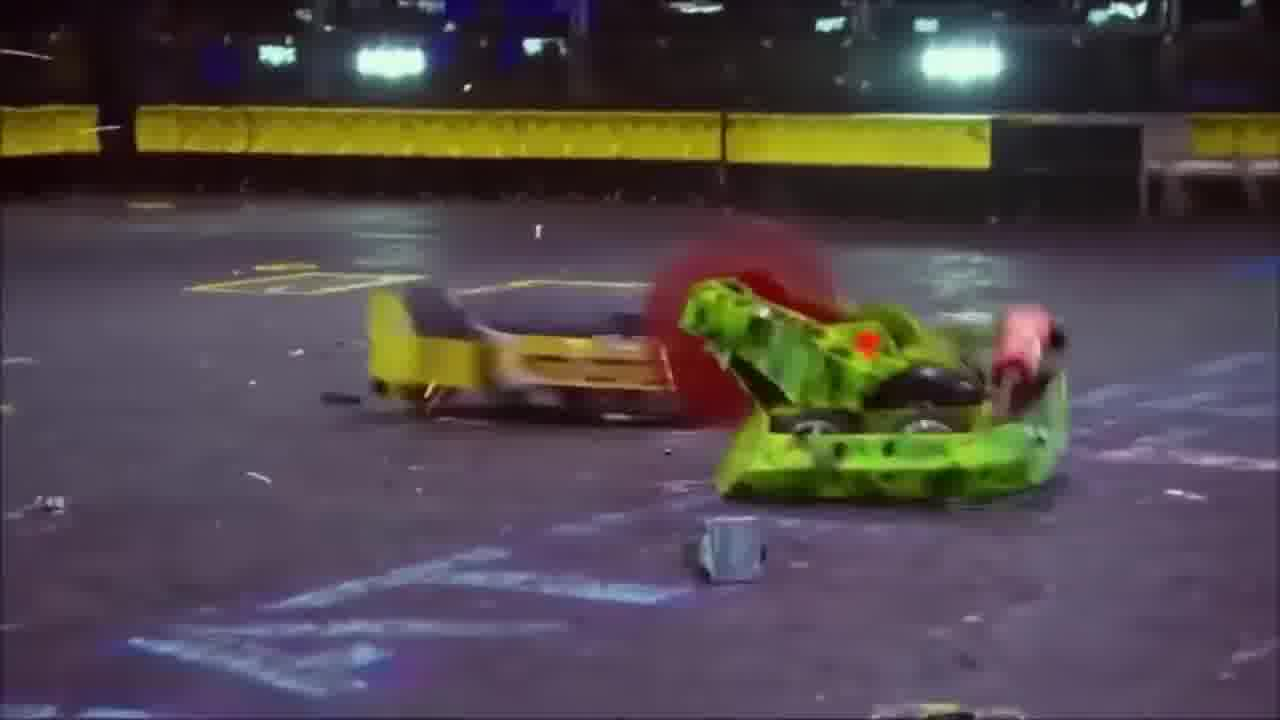combatbot: (641, 254, 1068, 507), (366, 238, 781, 434)
debris: (685, 514, 764, 581)
